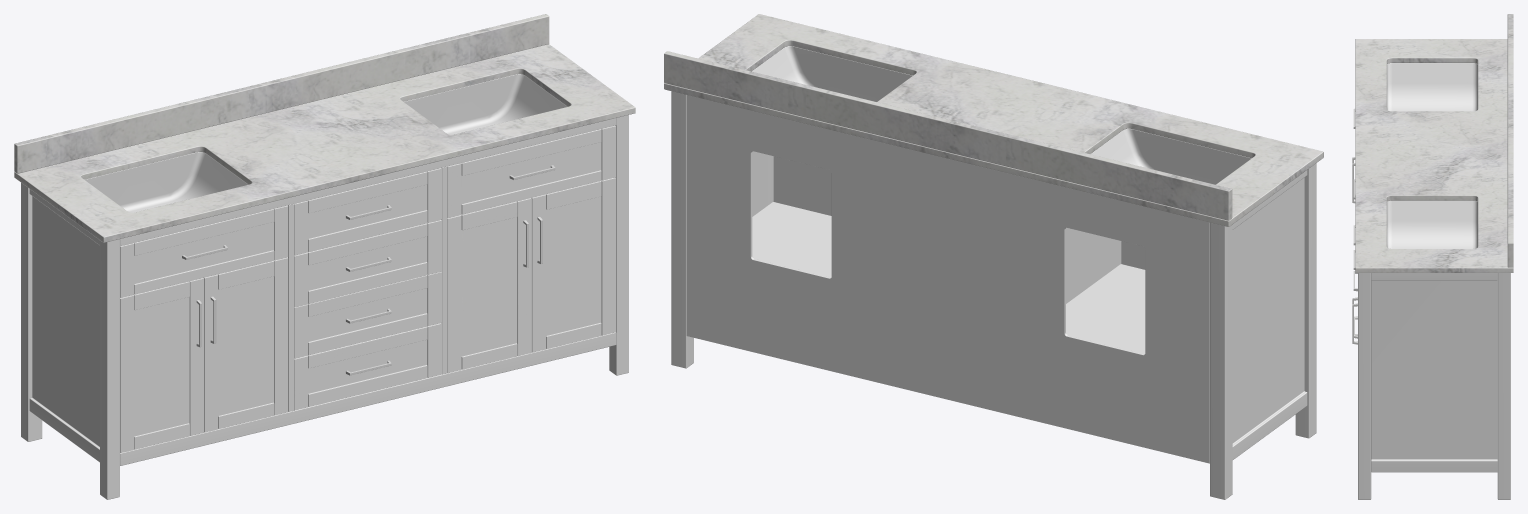
The model's file is ove-decors-tahoe.glb.
3 renders of one model, left to right at view 1: azimuth 30°, elevation 25°; view 2: azimuth 150°, elevation 25°; view 3: azimuth 270°, elevation 25°, orthographic. The views are drawn at different scales.
Parts seen in each view (by area): view 1: Base; view 2: Base; view 3: Base.
Boxes of the visible parts, x1,y1,x2,y2 form: Base: (14,14,635,499); Base: (664,14,1323,499); Base: (1352,14,1513,499).
Size of the model in its own units: 1.83 by 0.9637 by 0.5436.
1 material, 1 textured.
